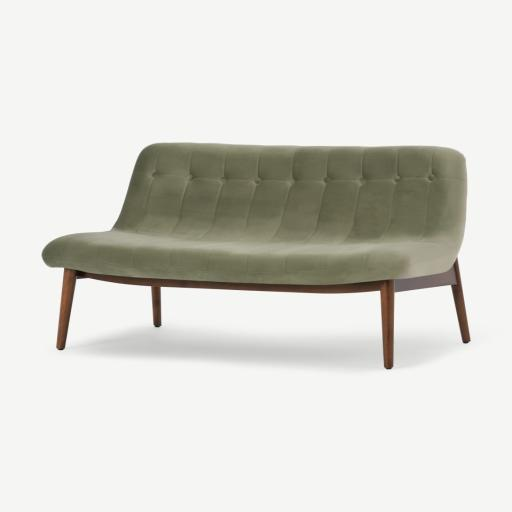back_cushion: (114, 144, 465, 246)
legs: (57, 259, 470, 369), (152, 286, 161, 327)
one-seater: (0, 0, 511, 512)
seat_cushion: (43, 227, 460, 285)
